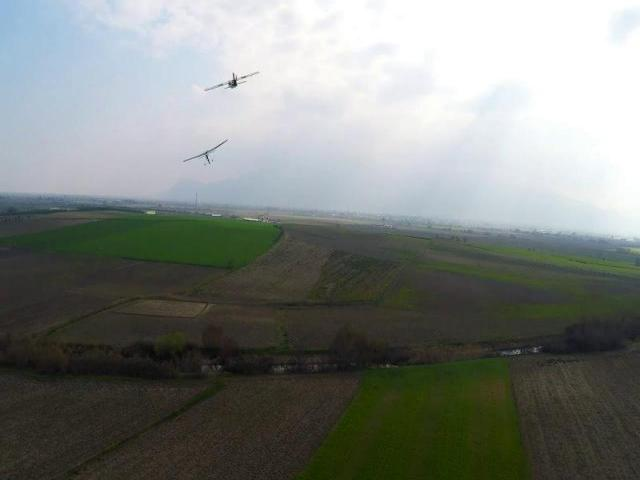hedef: (199, 65, 266, 106), (176, 132, 238, 176)
